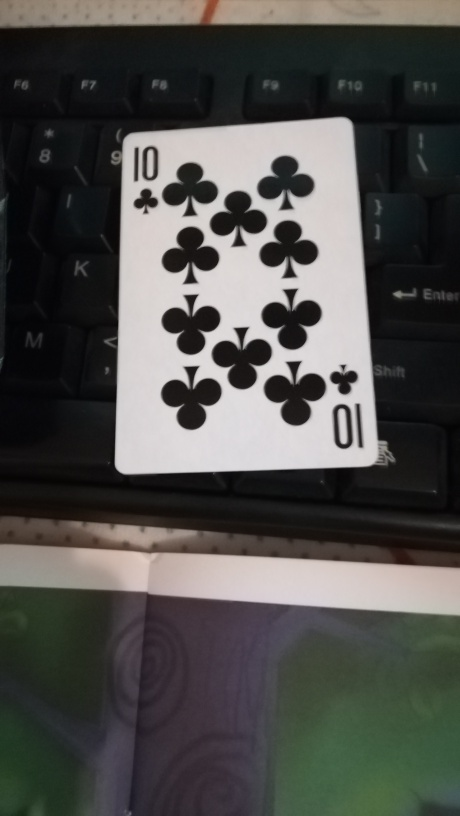mh 10: (115, 114, 380, 474)
